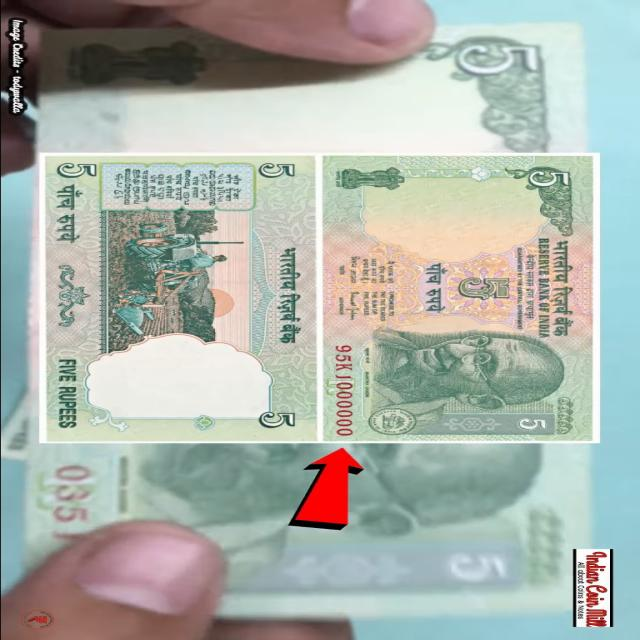5IndianRupees: (59, 160, 313, 440)
